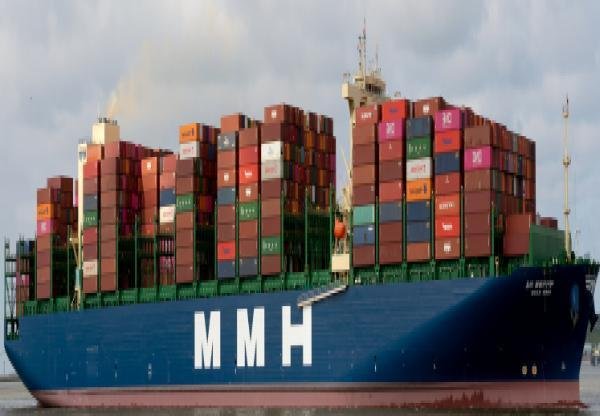Container Ship: (2, 17, 598, 412)
